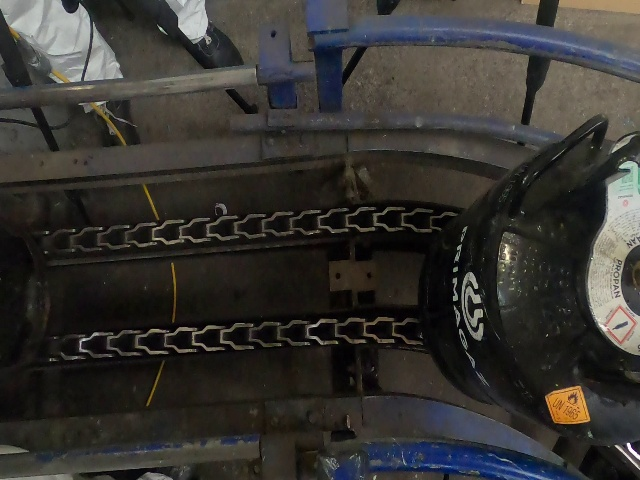gas_bottle: (0, 8, 638, 475)
